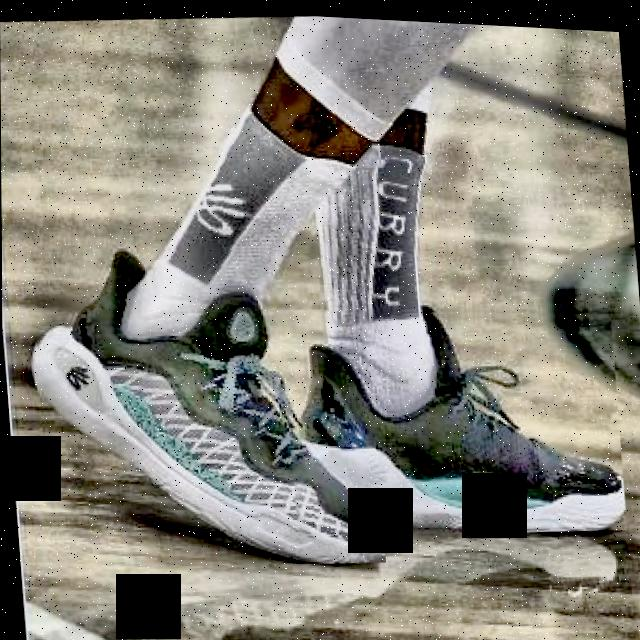shoe: (26, 226, 385, 582), (276, 283, 626, 546)
